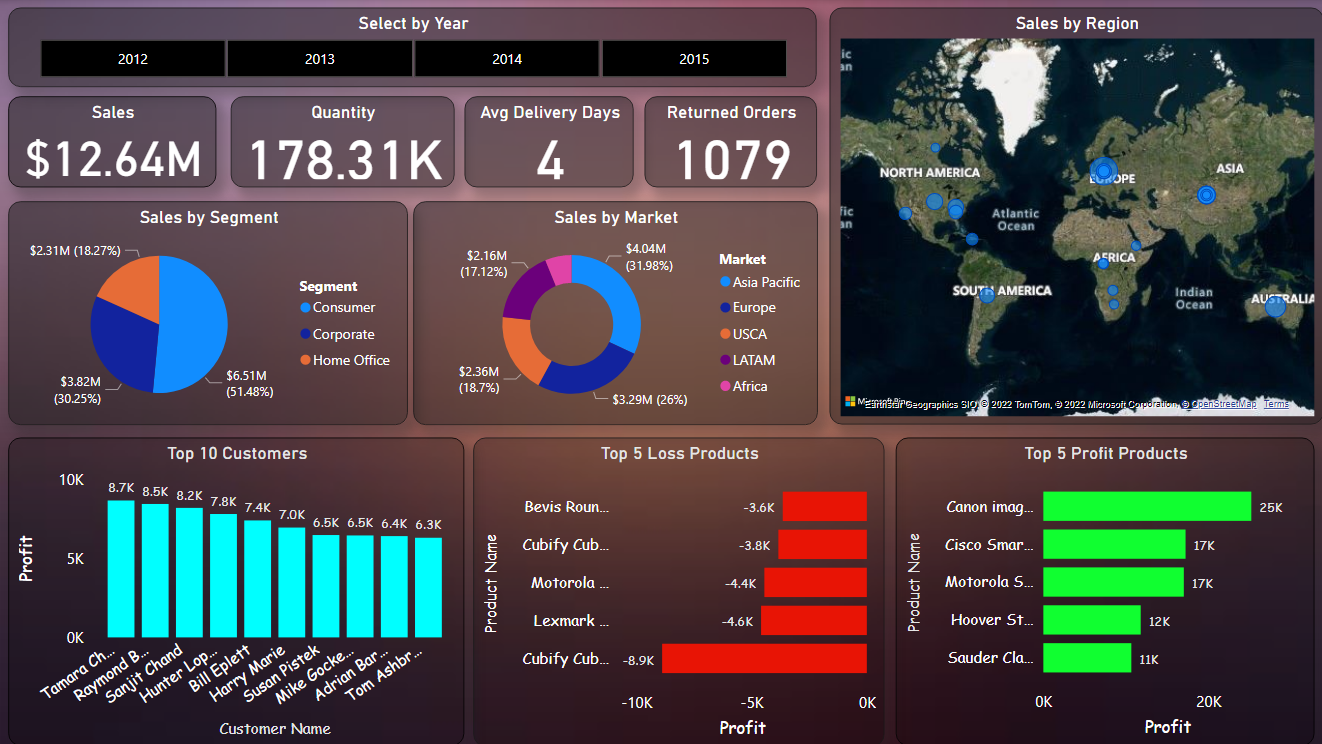

What the dashboard file says about the page in this screenshot:
{"tool":"powerbi","page":{"name":"Page 1","canvas":[1280,720],"ordinal":0},"visuals":[{"type":"card","title":"Sales","fields":{"Values":["Orders.Sales"]},"box":[11,93.4,200.5,87.9],"z":0},{"type":"card","title":"Quantity","fields":{"Values":["Orders.Quantity"]},"box":[225.2,93.4,215.6,87.9],"z":1000},{"type":"card","title":"Avg Delivery Days","fields":{"Values":["Orders.Delivery Days"]},"box":[450.5,93.4,163.4,87.9],"z":2000},{"type":"slicer","title":"Select by Year","fields":{"Values":["Orders.Year"]},"box":[11,6.9,780.1,76.9],"z":3000},{"type":"card","title":"Returned Orders","fields":{"Values":["Returns.Return Orders"]},"box":[624.9,93.4,166.2,87.9],"z":4000},{"type":"map","fields":{"Size":["Orders.Sales"],"Category":["Orders.Region"]},"box":[803.4,6.9,476.6,402.4],"z":5000},{"type":"clusteredBarChart","title":"Top 5 Profit Products","fields":{"Category":["Orders.Product Name"],"Y":["Orders.Profit"]},"box":[867.1,422.1,404,297.9],"z":6000},{"type":"clusteredBarChart","title":"Top 5 Loss Products","fields":{"Category":["Orders.Product Name"],"Y":["Orders.Profit"]},"box":[460.1,421.6,396.9,298],"z":7000},{"type":"pieChart","fields":{"Y":["Orders.Sales"],"Category":["Orders.Segment"]},"box":[11,193.6,385.9,215.6],"z":8000},{"type":"donutChart","fields":{"Y":["Orders.Sales"],"Category":["Orders.Market"]},"box":[401,193.6,390,215.6],"z":9000},{"type":"columnChart","title":"Top 10 Customers","fields":{"Category":["Orders.Customer Name"],"Y":["Orders.Profit"]},"box":[10.9,422.1,440.2,297.9],"z":10000}]}

Visuals, with their boxes in screenshot pixels (x1, y1, x2, y2), scaled from the page's 1280x720 canvas onto the 1322x744 screenshot:
"Sales" card: 11,97,218,187
"Quantity" card: 233,97,455,187
"Avg Delivery Days" card: 465,97,634,187
"Select by Year" slicer: 11,7,817,87
"Returned Orders" card: 645,97,817,187
map - Orders.Sales x Orders.Region: 830,7,1321,423
"Top 5 Profit Products" clusteredBarChart: 896,436,1313,743
"Top 5 Loss Products" clusteredBarChart: 475,436,885,743
pieChart - Orders.Sales x Orders.Segment: 11,200,410,423
donutChart - Orders.Sales x Orders.Market: 414,200,817,423
"Top 10 Customers" columnChart: 11,436,466,743
